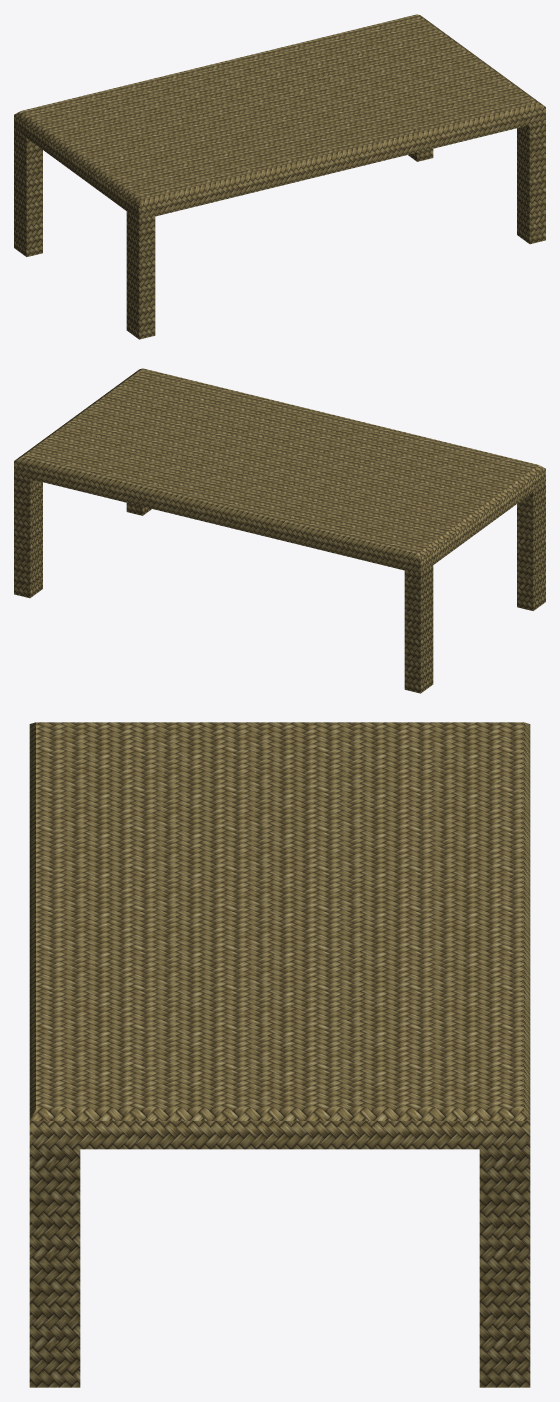
File: UDC_RattanTable.obj
The picture shows the model from 3 angles, top to bottom: view 1: azimuth 30°, elevation 25°; view 2: azimuth 150°, elevation 25°; view 3: azimuth 270°, elevation 25°; orthographic projection. The views are drawn at different scales.
Parts seen in each view (by area): view 1: UDC_RattanTable; view 2: UDC_RattanTable; view 3: UDC_RattanTable.
Boxes of the visible parts, bbox=[...] form: UDC_RattanTable: bbox=[14, 14, 545, 339]; UDC_RattanTable: bbox=[14, 368, 545, 693]; UDC_RattanTable: bbox=[29, 722, 530, 1387].
Bounding box in the file's own units: 0.5906 × 0.1899 × 0.315.
1 material, 1 textured.
